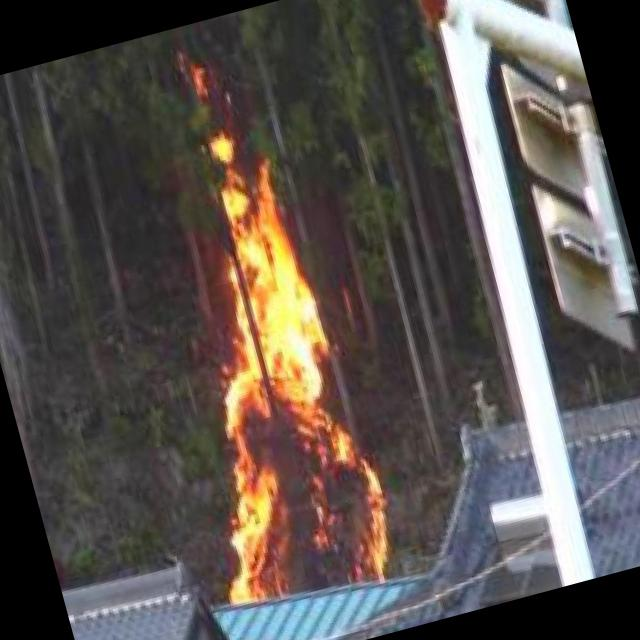Fire: (122, 148, 404, 617)
